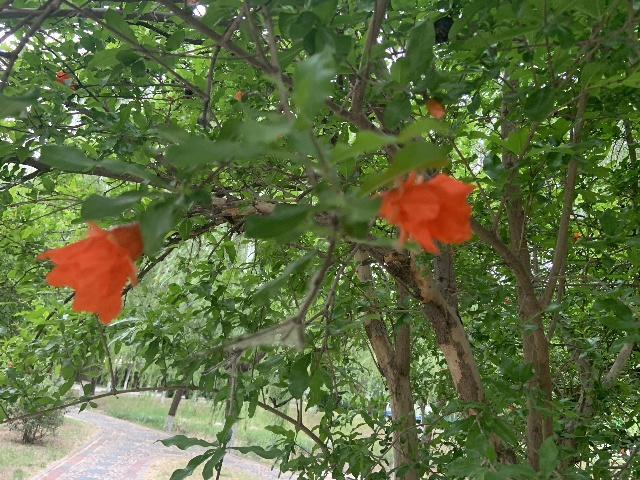bud: (426, 99, 445, 119), (235, 91, 243, 100)
flower: (35, 219, 144, 324), (372, 170, 476, 254), (55, 71, 76, 90), (573, 232, 580, 242)
